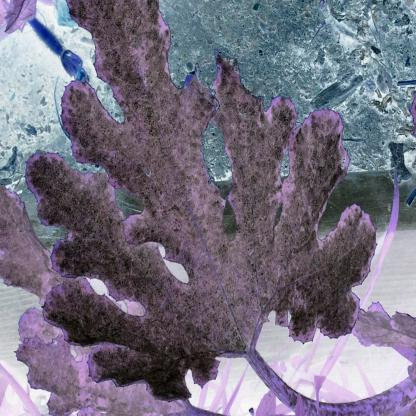squash powdery mildew leaf: (23, 0, 378, 402)
